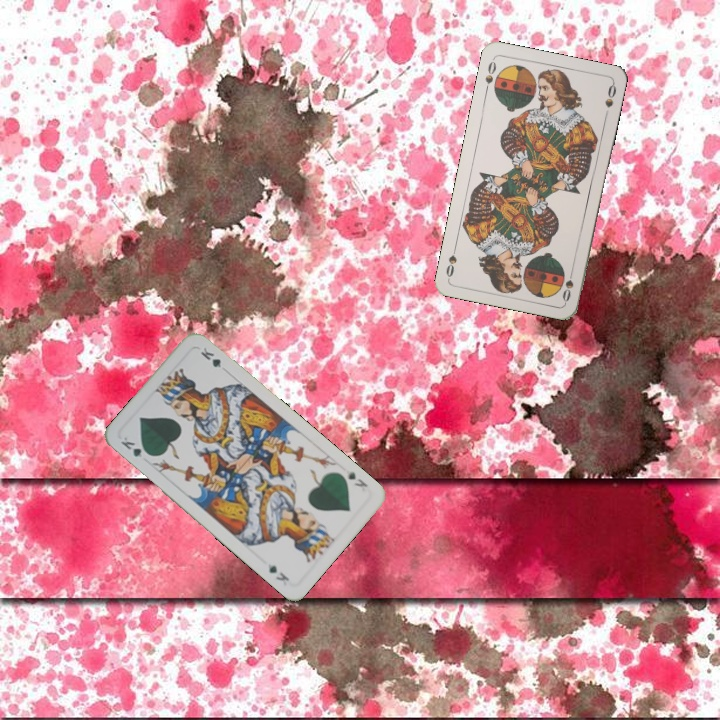GK: (117, 432, 154, 460), (344, 467, 371, 490)
SO: (558, 264, 576, 304), (481, 55, 499, 95)
